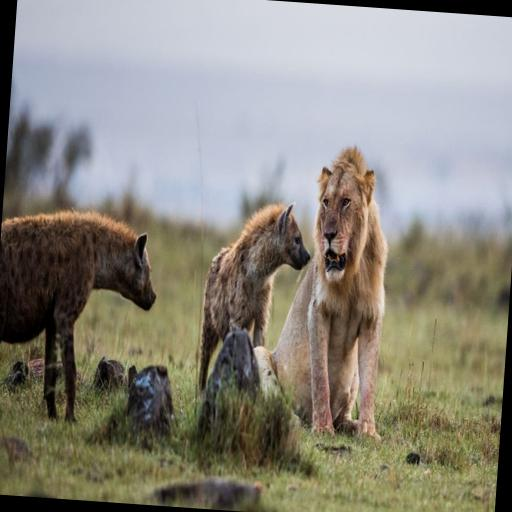hyenas: (0, 153, 315, 440)
lions: (300, 146, 420, 425)
